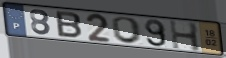2: (85, 12, 113, 44)
8: (29, 9, 52, 36)
9: (144, 18, 169, 48)
B: (55, 10, 84, 40)
H: (168, 18, 203, 53)
O: (111, 16, 144, 45)
